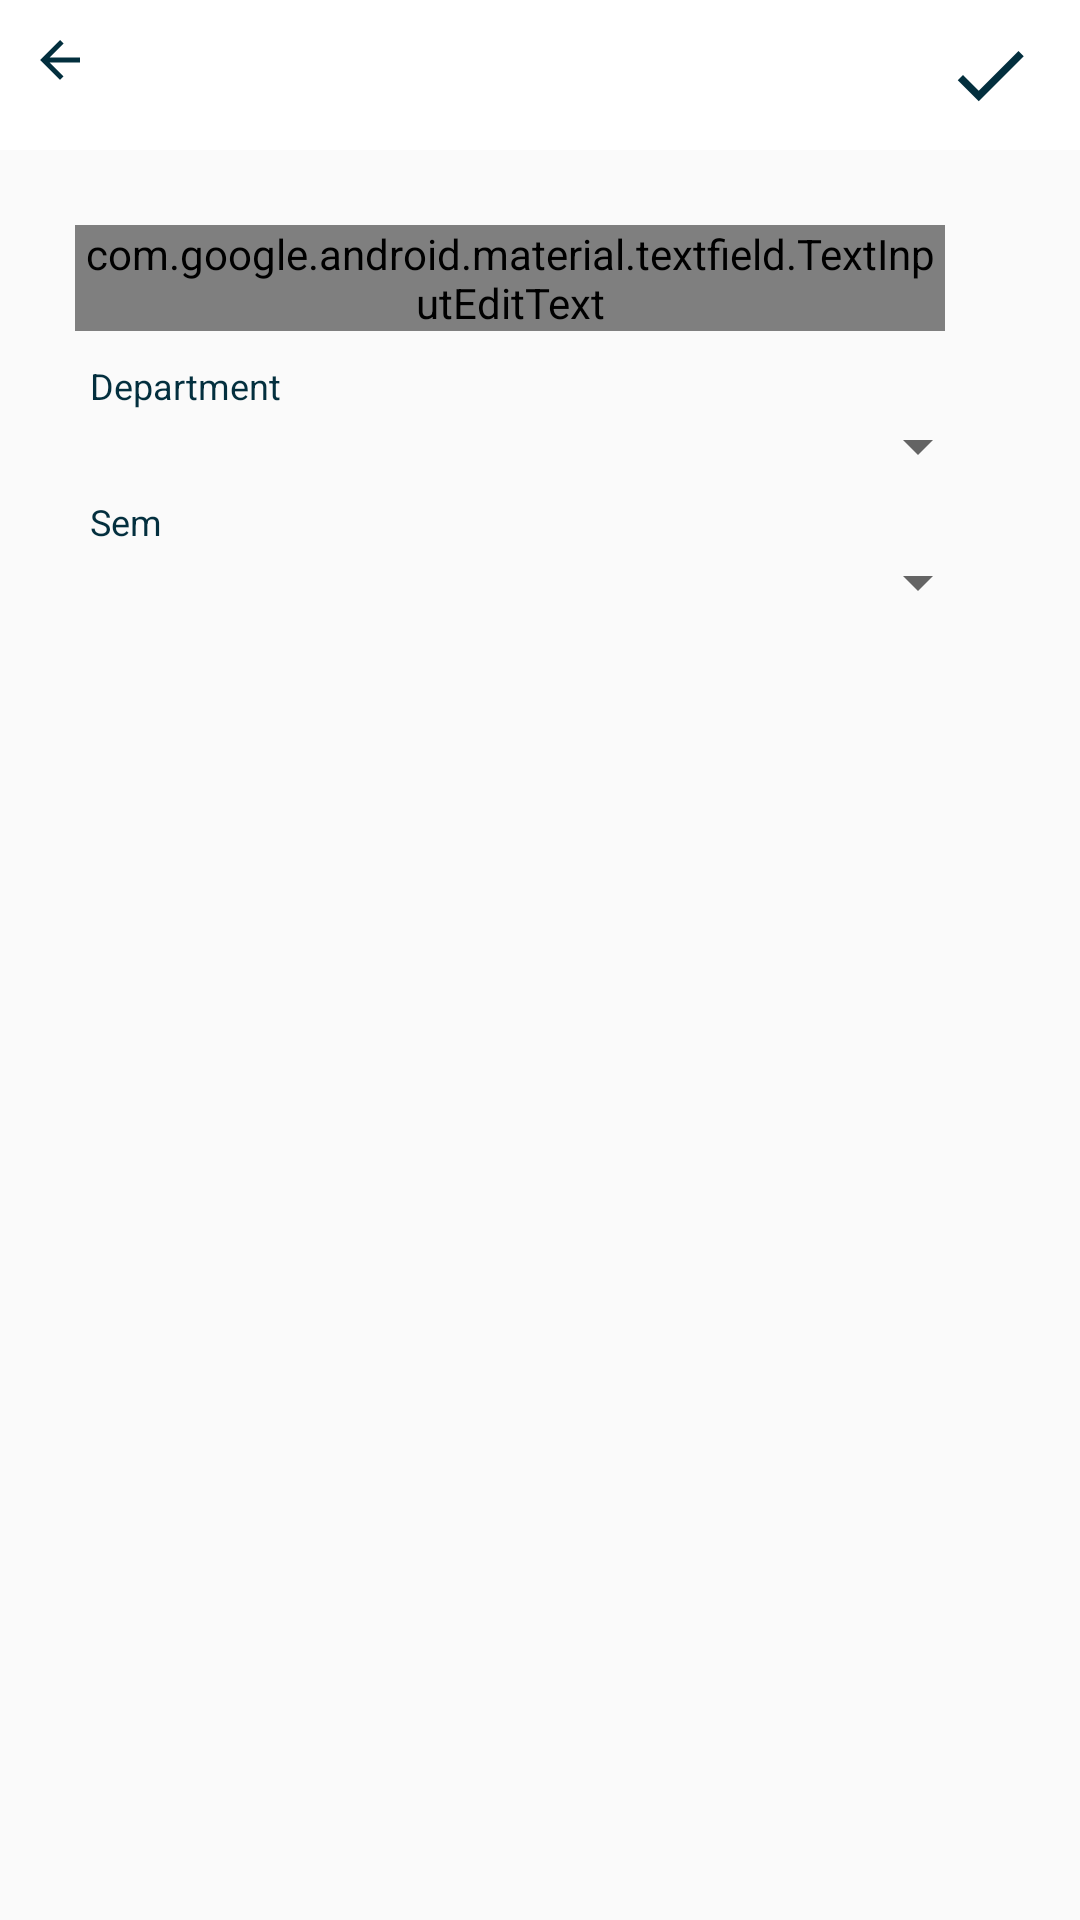

Named icons in this screenshot (1080 × 1920) and their bounding boxes, rect(x1, y1, x2, y2):
arrow back: rect(40, 40, 80, 80)
done: rect(958, 51, 1024, 101)
